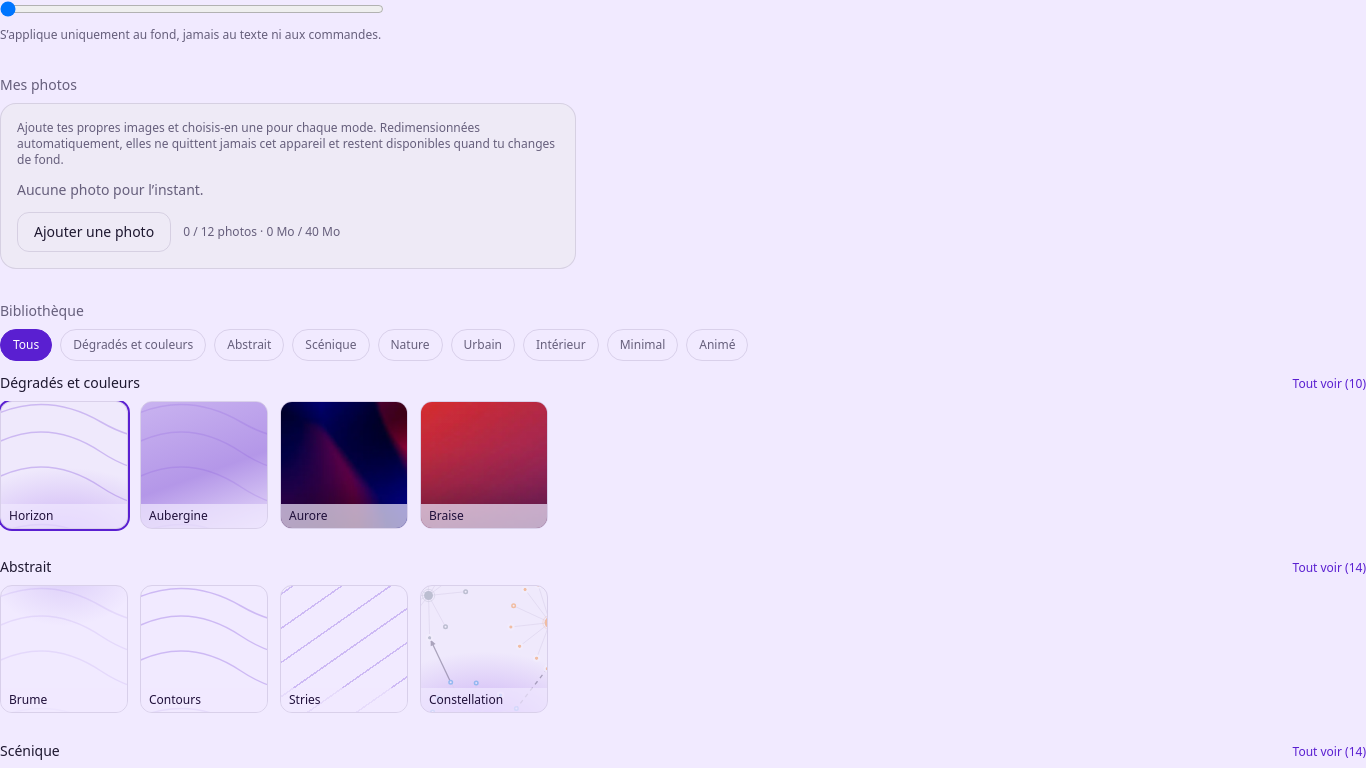
Test: ThemesPage — vue « Tous » en rangées par catégorie (lot 3 bis, §2) › cliquer « Tout voir » bascule sur la grille complète de la catégorie
(page scrolled)
Click the button "Tout voir (10)": (1329, 384) top-left (1292, 376), bottom-right (1365, 392)
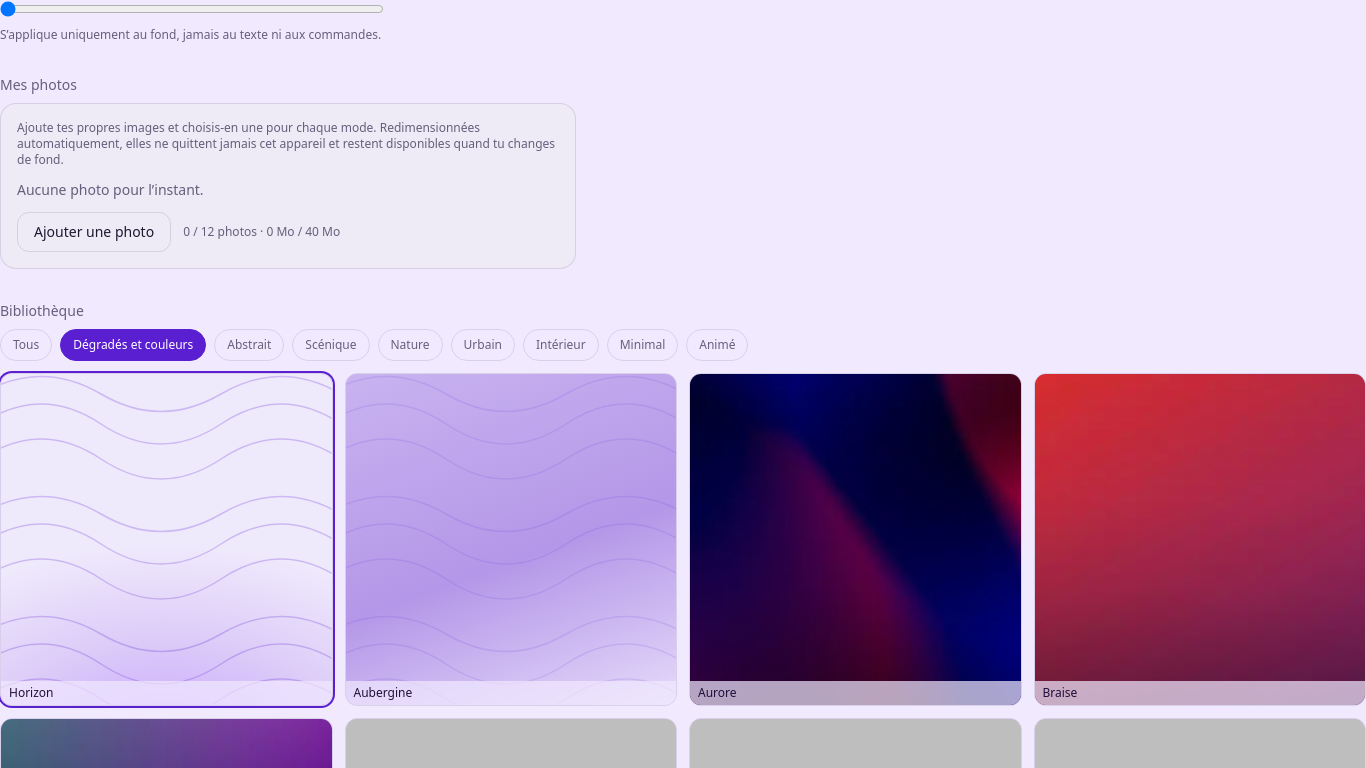
Result: the button "Tout voir (10)" is gone
